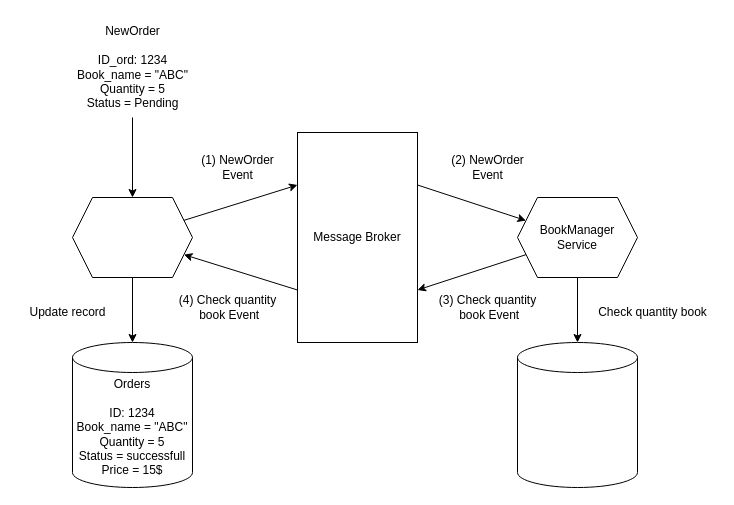
The diagram is 734 pixels wide and 505 high, and some of its shapes have lost their labels. The shapes that lost their labels are listed below. From the top down, each one's centre as x and y in pixels, then its label:
pixel 132 237: OrderService
pixel 577 415: Books ID_book: 4567 Book_name = "ABC" Exist = 10 unit_price = 3$
